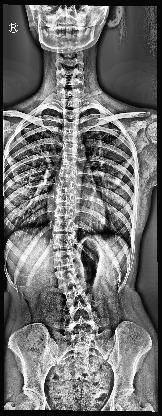Vertebrae: (68, 321, 98, 337), (61, 290, 91, 304), (56, 270, 80, 286), (69, 306, 96, 320), (53, 251, 74, 267), (53, 234, 75, 249), (54, 206, 74, 219), (53, 220, 74, 232), (56, 180, 76, 192), (55, 193, 75, 205), (58, 168, 76, 180), (60, 98, 80, 108), (62, 143, 78, 155), (61, 155, 77, 167), (63, 109, 79, 119), (63, 121, 79, 131), (63, 132, 79, 142)
